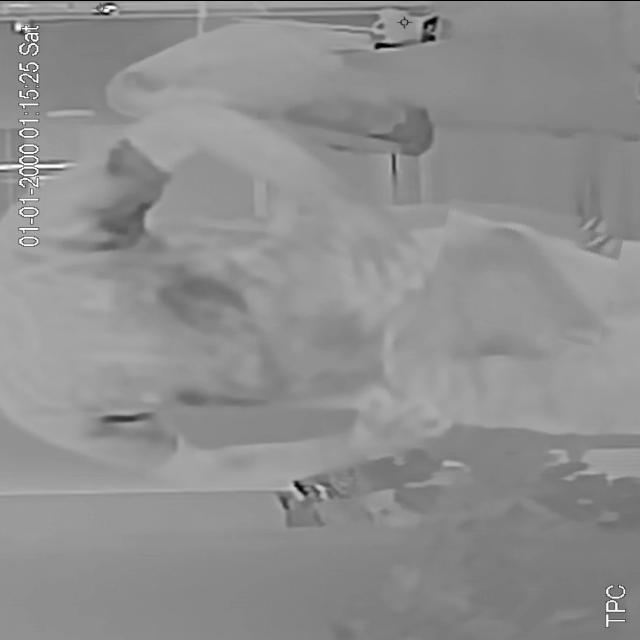Weapon: (431, 207, 618, 338)
